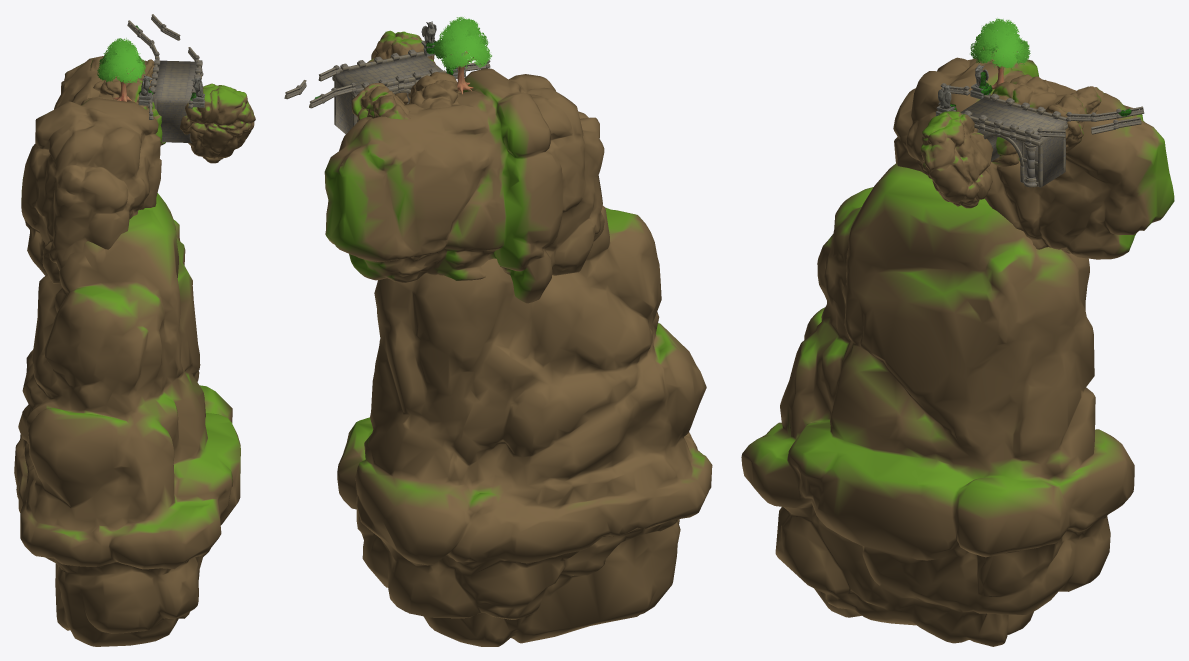
Rendered from cell_x1_z-3_render.gltf.
3 renders of one model, left to right at view 1: azimuth 30°, elevation 25°; view 2: azimuth 150°, elevation 25°; view 3: azimuth 270°, elevation 25°, orthographic. The views are drawn at different scales.
Visible parts, largest first — view 1: SM_ENV_cliff_castle_02_LOD0.037, SM_ENV_cliff_castle_02_LOD0.026, SM_ENV_cliff_castle_01_LOD0.050, SM_MOD_bridge_base_castle_LOD0.001, SM_ENV_tree_castle_01_LOD0.001, SM_ENV_cliff_castle_01_LOD0.029; view 2: SM_ENV_cliff_castle_02_LOD0.037, SM_ENV_cliff_castle_02_LOD0.026, SM_MOD_bridge_base_castle_LOD0.001, SM_ENV_tree_castle_01_LOD0.001, SM_ENV_cliff_castle_02_LOD0.043, SM_ENV_cliff_castle_01_LOD0.029, SM_ENV_cliff_castle_01_LOD0.050; view 3: SM_ENV_cliff_castle_02_LOD0.037, SM_ENV_cliff_castle_02_LOD0.026, SM_MOD_bridge_base_castle_LOD0.001, SM_ENV_cliff_castle_01_LOD0.050, SM_ENV_tree_castle_01_LOD0.001, SM_ENV_cliff_castle_01_LOD0.029, SM_ENV_cliff_castle_02_LOD0.043.
Part boxes in pixels (<box>): SM_ENV_cliff_castle_02_LOD0.037: <box>14,193,240,646</box>; SM_ENV_cliff_castle_02_LOD0.026: <box>21,56,161,283</box>; SM_ENV_cliff_castle_01_LOD0.050: <box>180,83,255,163</box>; SM_MOD_bridge_base_castle_LOD0.001: <box>149,59,203,142</box>; SM_ENV_tree_castle_01_LOD0.001: <box>97,38,146,102</box>; SM_ENV_cliff_castle_01_LOD0.029: <box>93,77,165,145</box>; SM_ENV_cliff_castle_02_LOD0.037: <box>337,205,712,646</box>; SM_ENV_cliff_castle_02_LOD0.026: <box>324,68,604,303</box>; SM_MOD_bridge_base_castle_LOD0.001: <box>332,49,446,134</box>; SM_ENV_tree_castle_01_LOD0.001: <box>433,17,491,94</box>; SM_ENV_cliff_castle_02_LOD0.043: <box>351,83,410,120</box>; SM_ENV_cliff_castle_01_LOD0.029: <box>408,72,461,108</box>; SM_ENV_cliff_castle_01_LOD0.050: <box>367,30,435,104</box>; SM_ENV_cliff_castle_02_LOD0.037: <box>741,163,1134,646</box>; SM_ENV_cliff_castle_02_LOD0.026: <box>893,51,1174,259</box>; SM_MOD_bridge_base_castle_LOD0.001: <box>960,93,1068,187</box>; SM_ENV_cliff_castle_01_LOD0.050: <box>921,111,993,208</box>; SM_ENV_tree_castle_01_LOD0.001: <box>970,18,1030,94</box>; SM_ENV_cliff_castle_01_LOD0.029: <box>989,74,1057,167</box>; SM_ENV_cliff_castle_02_LOD0.043: <box>1045,86,1104,152</box>.
Bounding box in the file's own units: 54.4 × 110 × 69.75.
Materials: 8 (7 with a texture image).
